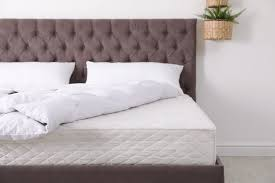bed-matress: (1, 92, 220, 164)
